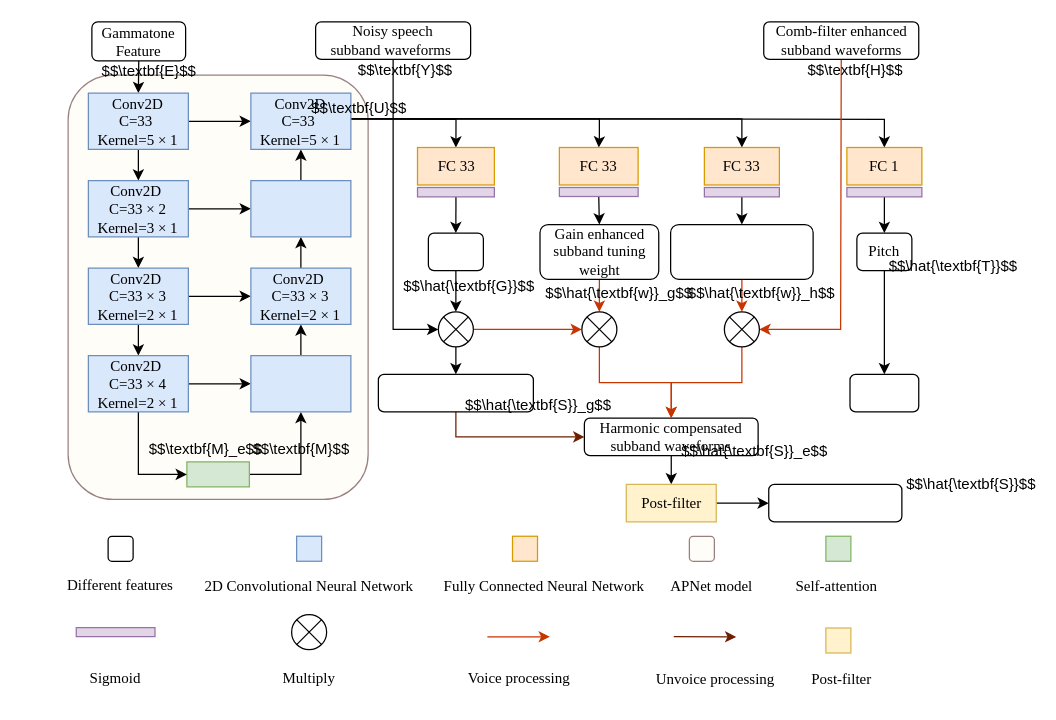
This 1056x720 diagram has some shape labels left out. Each missing label, with the box of its shape:
Conv2D C=33 × 2 Kernel=5 × 1: (250, 179, 351, 237)
Conv2D C=33 × 4 Kernel=1 × 1: (250, 354, 351, 412)
Enhanced subband waveforms: (768, 483, 902, 522)
Gain: (427, 232, 483, 271)
Gain enhanced subband waveforms: (377, 373, 533, 412)
Harmonic weight: (669, 223, 813, 279)
SA: (186, 461, 249, 487)
Voice / unvoice: (849, 373, 919, 412)
